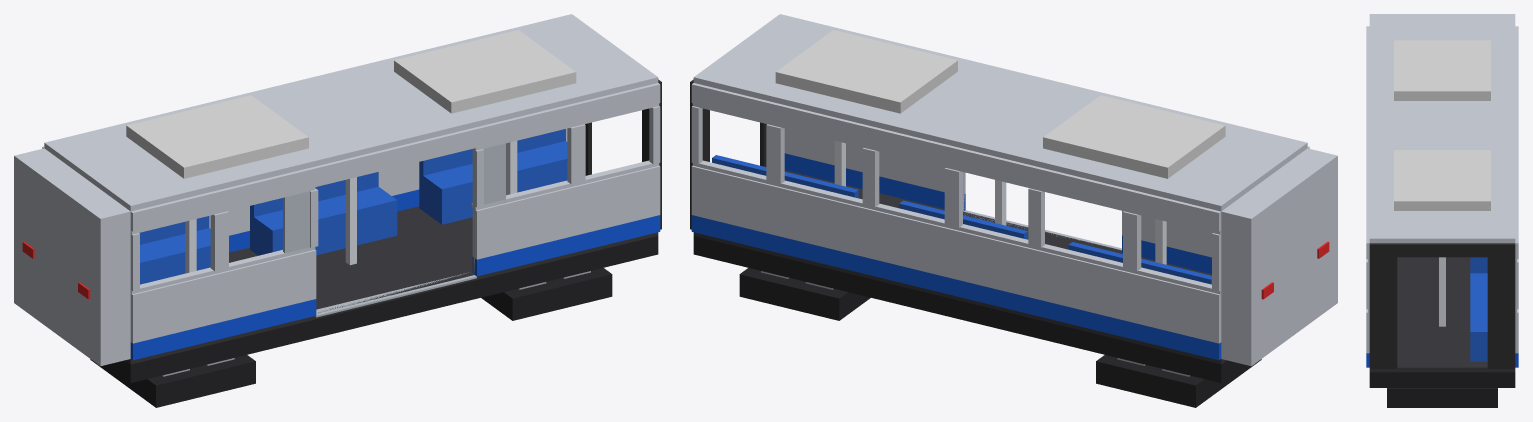
Rendered from metro_wagon_rear_l1.obj.
3 renders of one model, left to right at view 1: azimuth 30°, elevation 25°; view 2: azimuth 150°, elevation 25°; view 3: azimuth 270°, elevation 25°, orthographic. The views are drawn at different scales.
Bounding box in the file's own units: 3.16 × 1.26 × 0.88.
